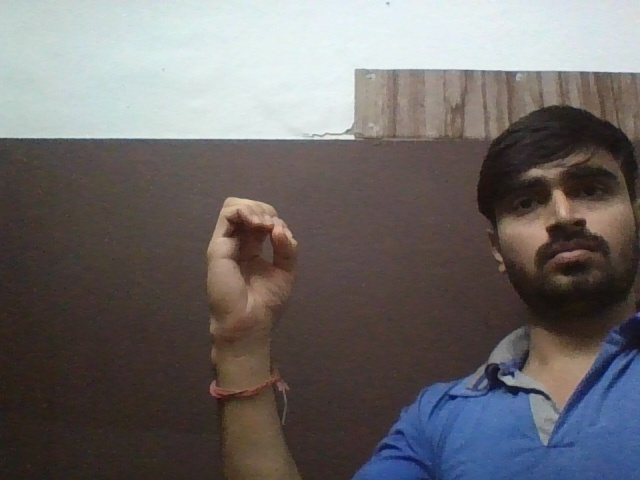O: (199, 182, 309, 320)
